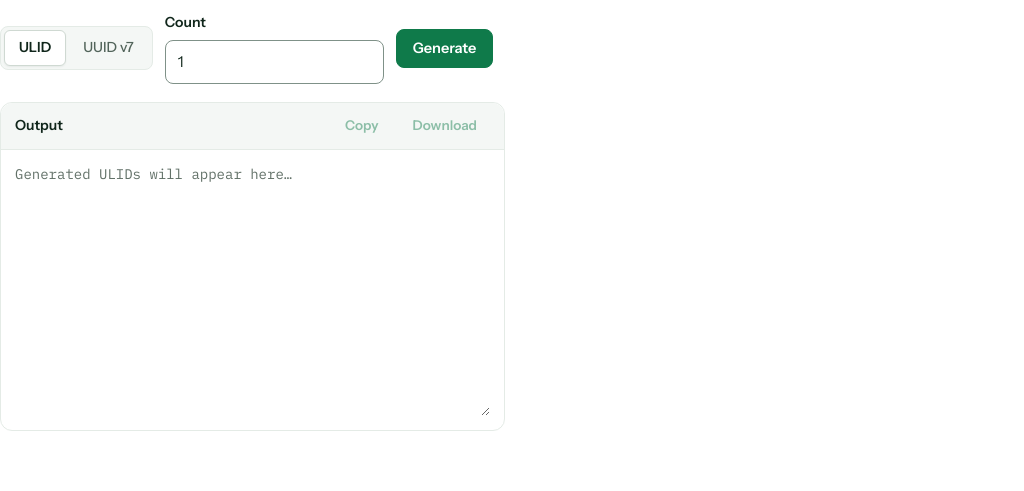
Test: UlidGenerator › shows an error when count is 0
Type "0" into the number field with placeholder "1" at (274, 62), box top-left (165, 40), bottom-right (384, 84)
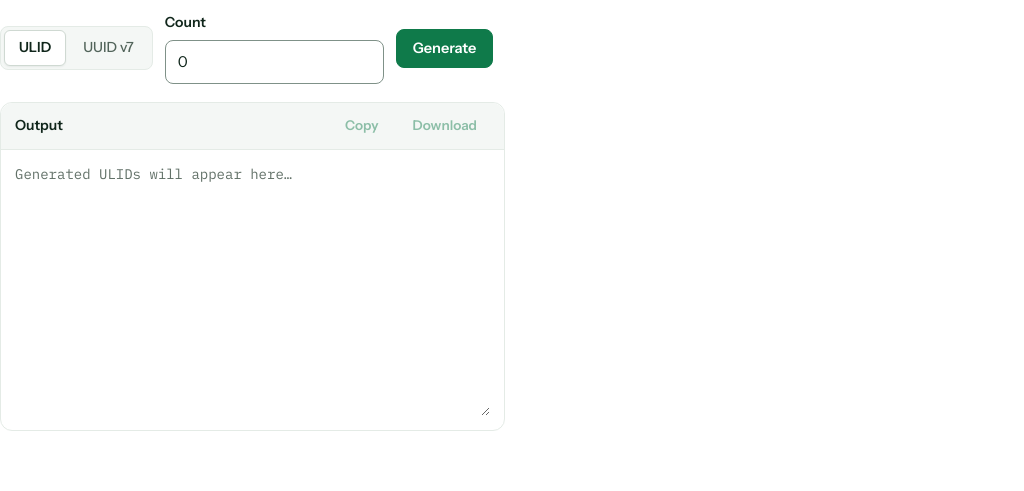
Click the button "Generate" at (444, 48), box top-left (396, 29), bottom-right (493, 68)
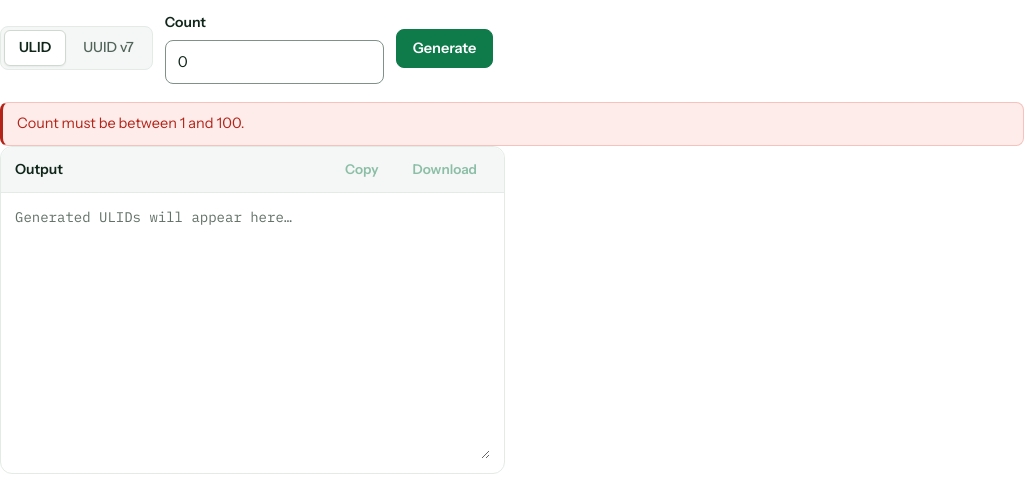
Expected: the text "Count must be between 1 and 100." is shown, top-left (0, 102), bottom-right (1023, 146)
